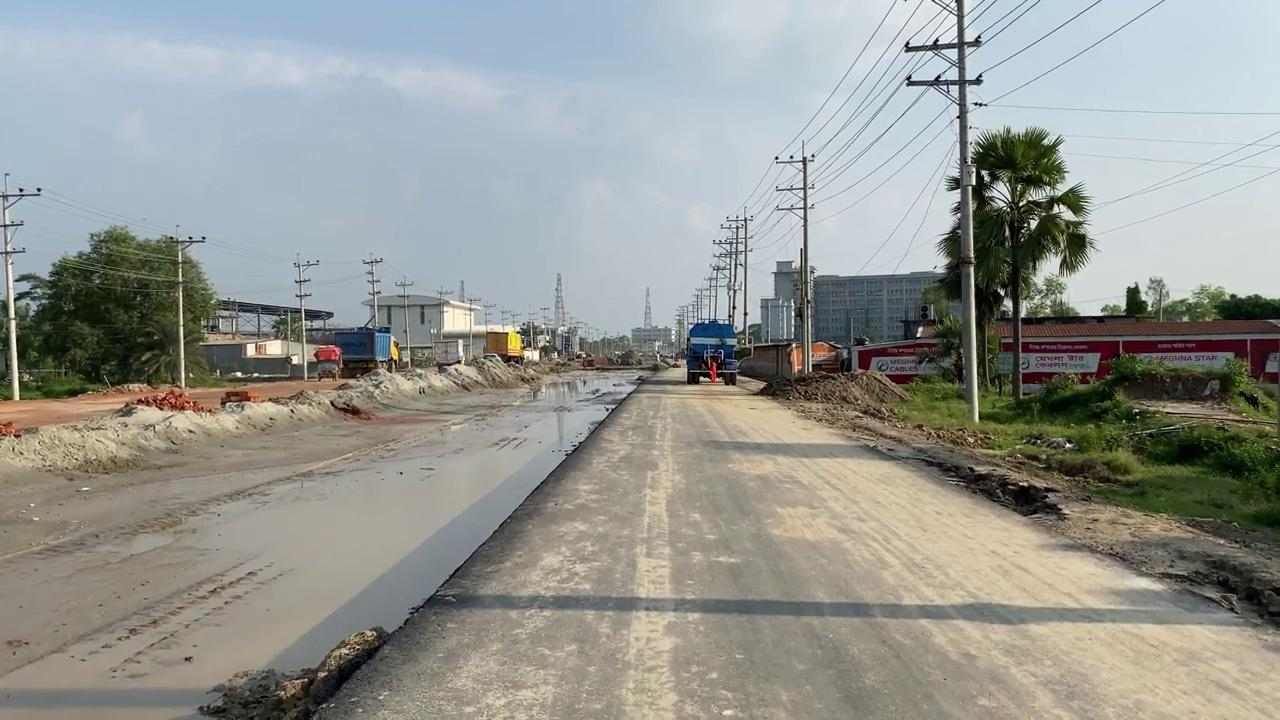Dog: (316, 362, 338, 381)
Obstacle: (685, 352, 738, 385)
Pole: (954, 0, 980, 423), (774, 139, 815, 374)
Rickshaw: (309, 361, 1278, 718)
Sidewalk: (1, 361, 651, 718)
Stuck-water: (708, 358, 718, 382)
Traffic-sign: (931, 123, 1099, 401), (13, 223, 218, 389)
Tree: (312, 326, 400, 379), (431, 325, 525, 368), (684, 318, 739, 385), (788, 340, 848, 375), (483, 327, 525, 364), (313, 344, 342, 381)
